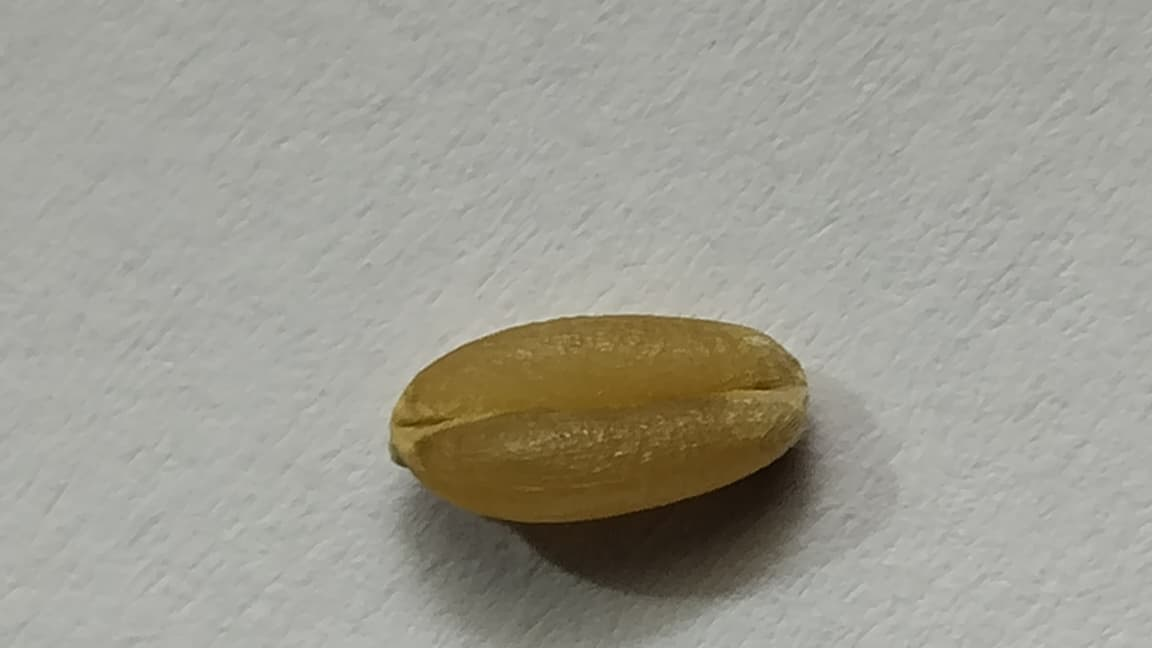healthy: (389, 315, 807, 522)
